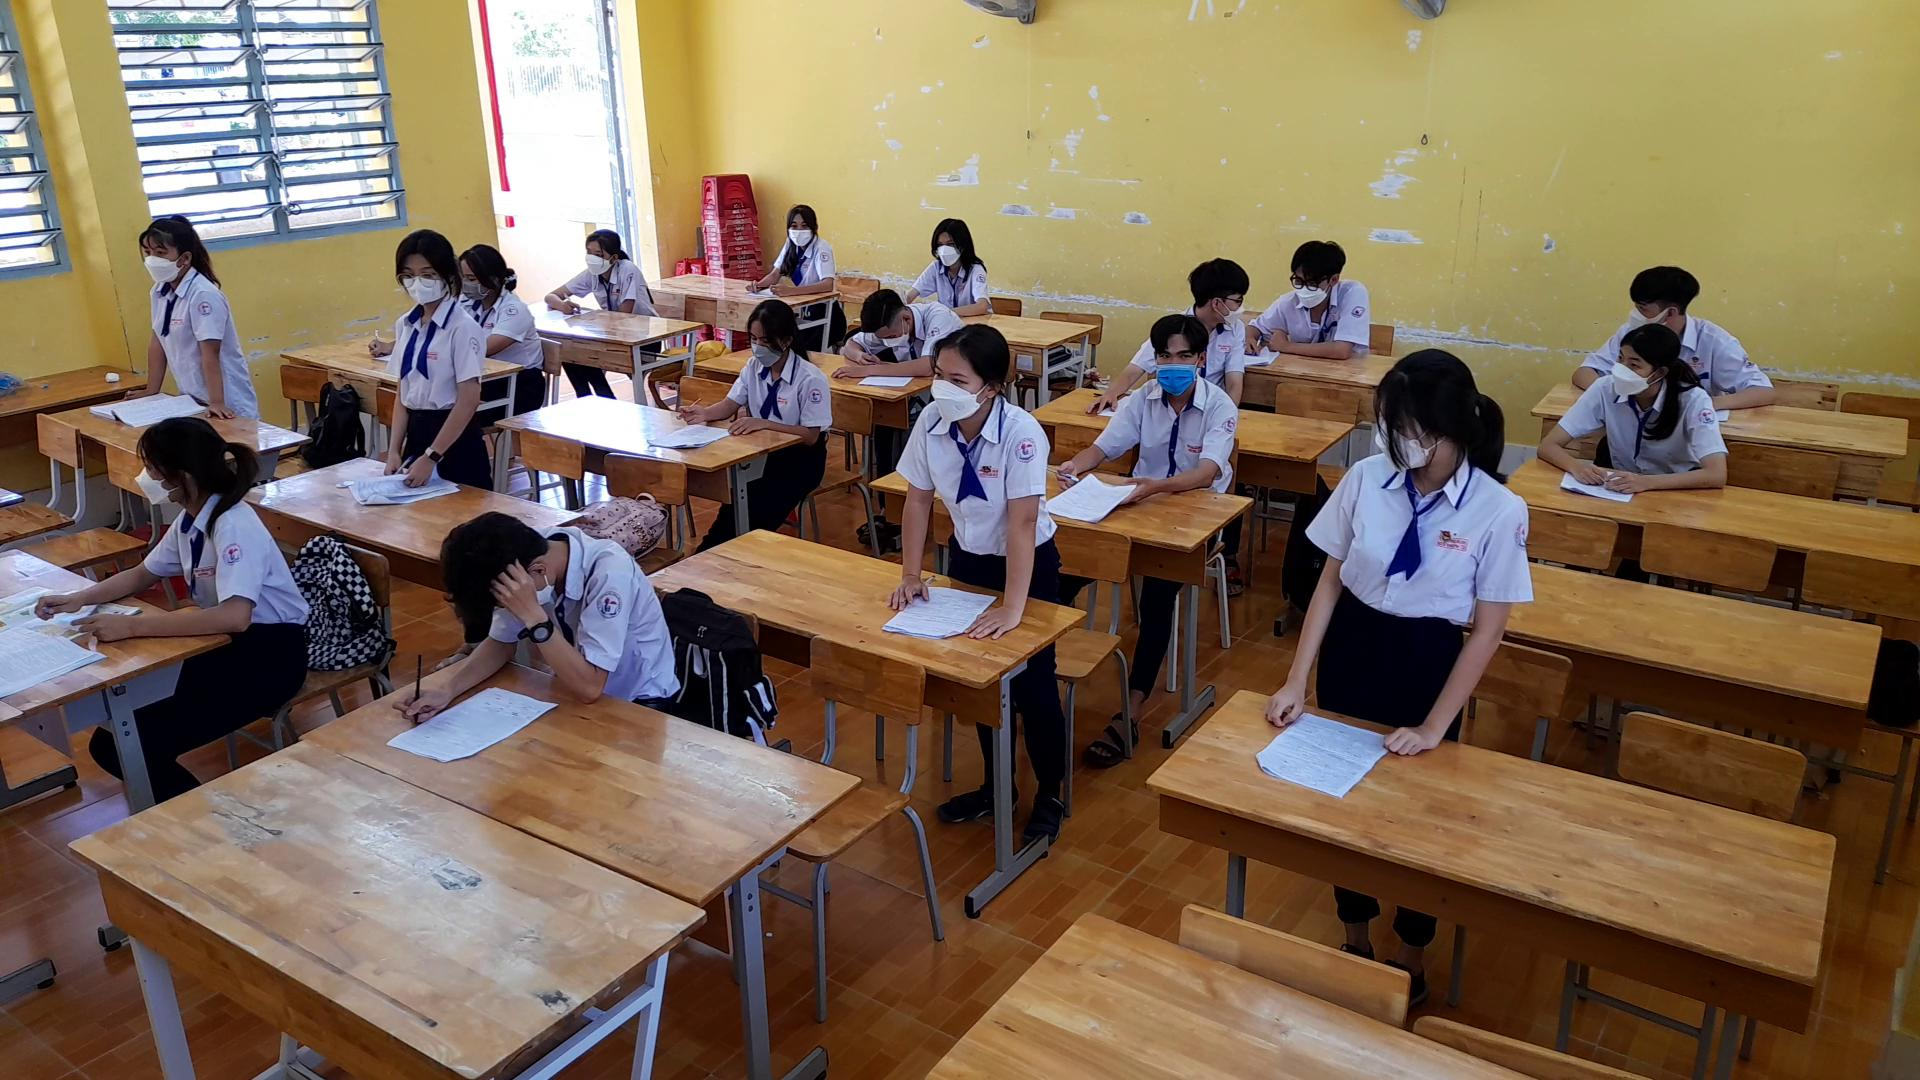Hand Under Table: (612, 264, 644, 324)
Look Around: (1172, 249, 1259, 338)
Normal: (70, 409, 314, 641), (1050, 307, 1244, 500), (1532, 316, 1734, 492), (663, 287, 841, 439), (1263, 222, 1379, 364), (735, 196, 856, 297), (903, 212, 1002, 309)
Stand Up: (1262, 338, 1538, 760), (880, 313, 1054, 636), (367, 223, 491, 492), (120, 208, 262, 425)
Wave: (487, 560, 642, 703)
